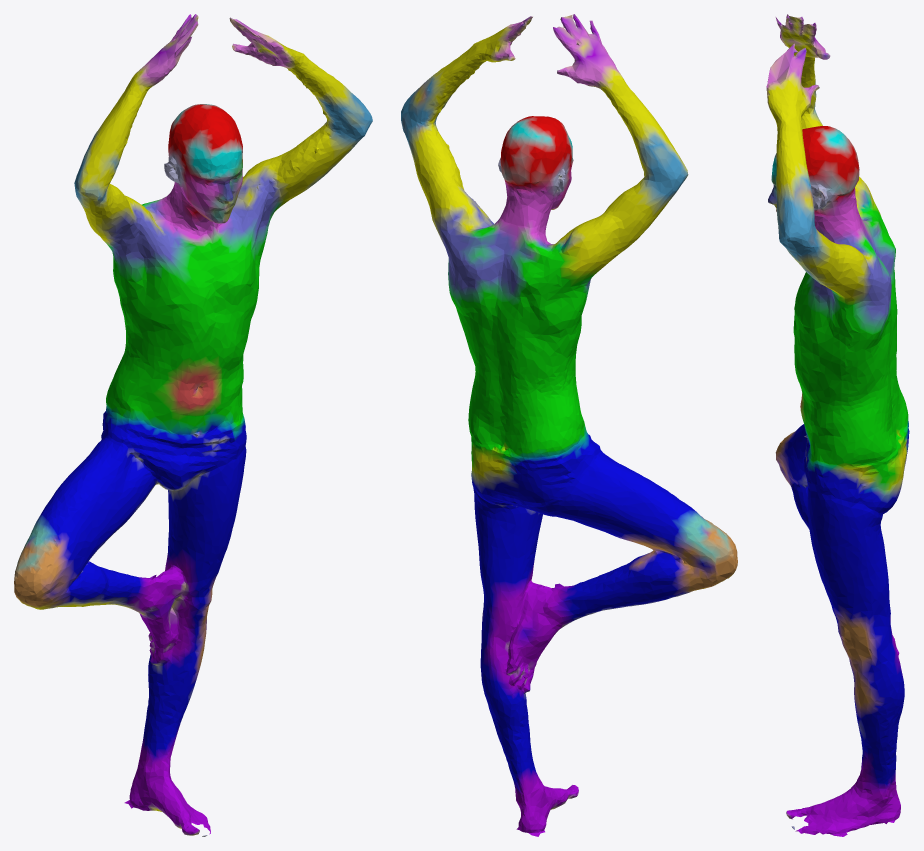
The model's file is 15_output_fine_grained.glb.
The picture shows the model from 3 angles, left to right: view 1: azimuth 30°, elevation 25°; view 2: azimuth 150°, elevation 25°; view 3: azimuth 270°, elevation 25°; orthographic projection. The views are drawn at different scales.
Parts seen in each view (by area): view 1: 15_output_fine_grained.obj; view 2: 15_output_fine_grained.obj; view 3: 15_output_fine_grained.obj.
Part boxes in pixels (box(x1,y1,x2,y2)): 15_output_fine_grained.obj: box(14, 14, 372, 836); 15_output_fine_grained.obj: box(401, 14, 737, 836); 15_output_fine_grained.obj: box(766, 14, 909, 836).
Bounding box in the file's own units: 0.9144 × 2.04 × 0.3267.
